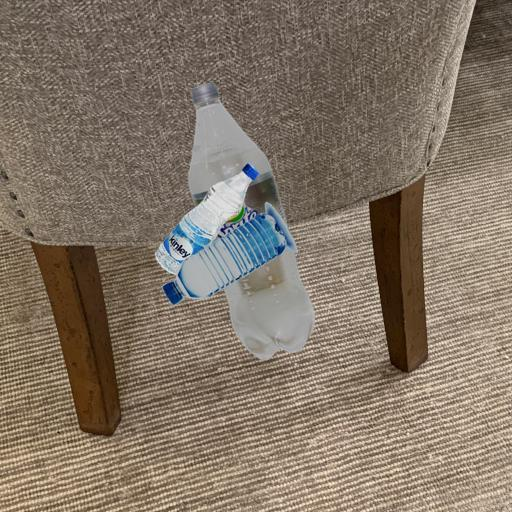bottle: (214, 55, 253, 361)
